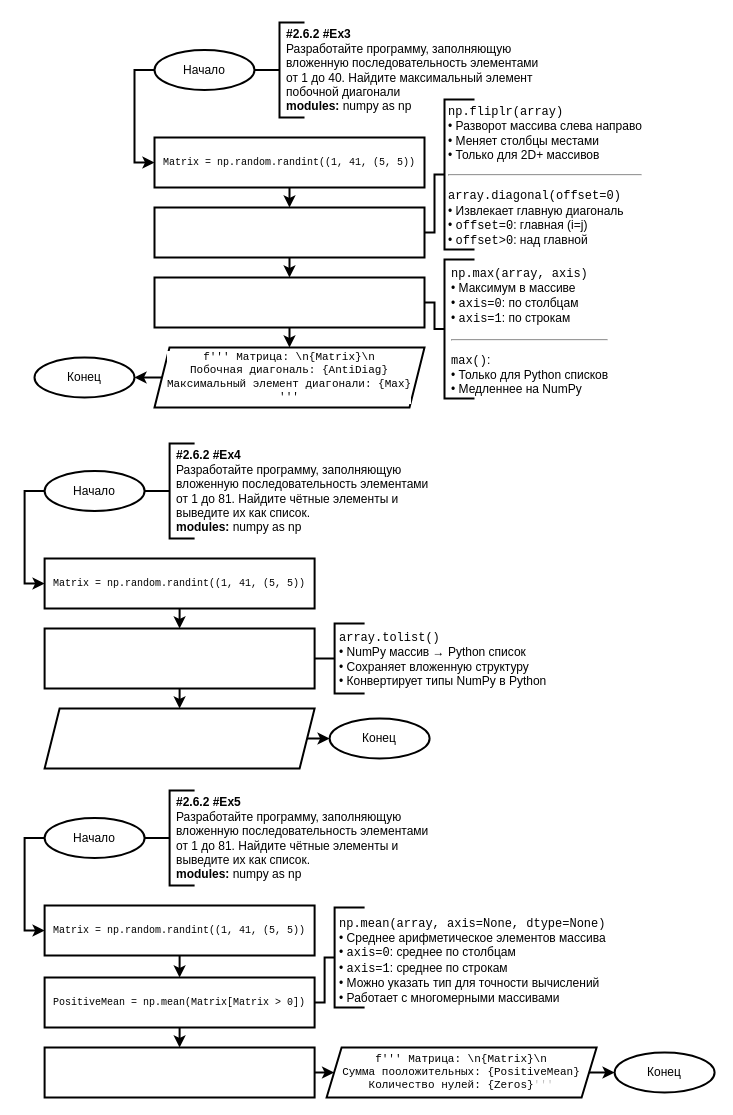
Some shapes in this 733 by 1115 pixel diagram are drawn without their labels. Here are the shapes that lost their labels. From the top down, the centre of each, then its label:
At [289,232]: "AntiDiag = np.fliplr(Matrix).diagonal()".
At [289,302]: "Max = np.max(Antidiag)".
At [179,658]: "Even = Matrix[Matrix % 2 == 0].tolist()".
At [179,738]: "f''' Матрица: \n{Matrix}\n Чётные элементы: {Even} '''".
At [179,1072]: "Zeros = len(Matrix[Matrix == 0])".
